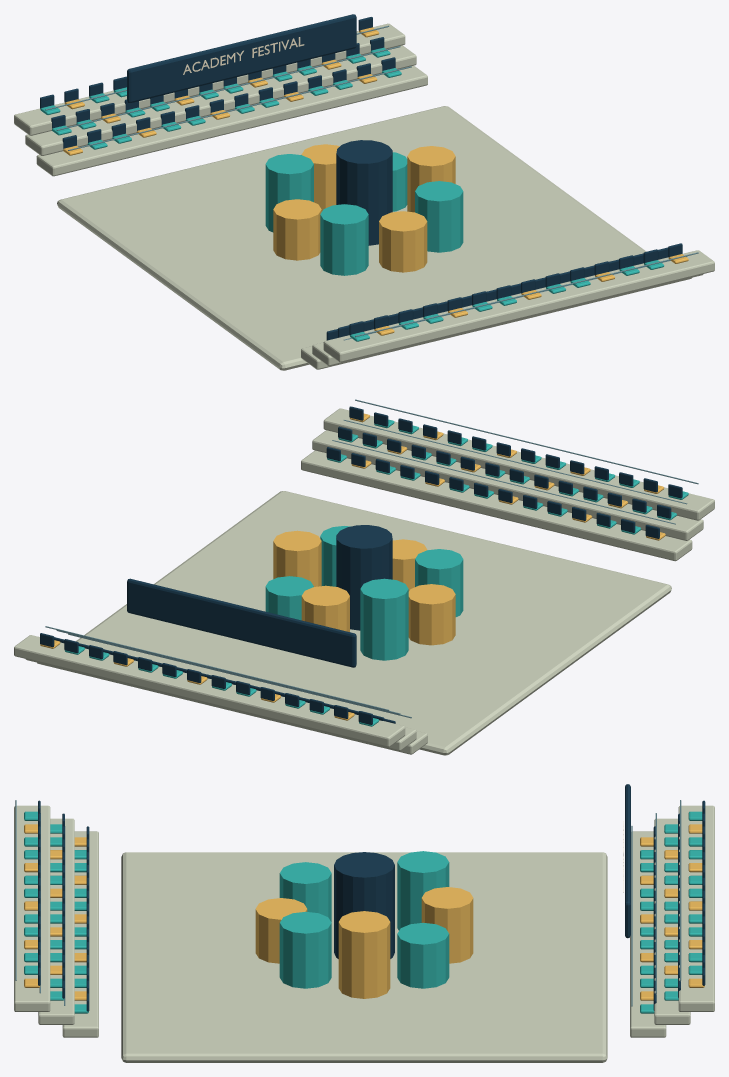
The model's file is festival-target.glb.
3 renders of one model, top to bottom at view 1: azimuth 30°, elevation 25°; view 2: azimuth 150°, elevation 25°; view 3: azimuth 270°, elevation 25°, orthographic. The views are drawn at different scales.
Visible parts, largest first — view 1: Venue, TargetPlatform7, TargetPlatform1, TargetPlatform0, TargetPlatform6, TargetPlatform5, TargetPlatform2, TargetPlatform4, TargetPlatform3; view 2: Venue, TargetPlatform5, TargetPlatform6, TargetPlatform2, TargetPlatform7, TargetPlatform4, TargetPlatform3, TargetPlatform0, TargetPlatform1; view 3: Venue, TargetPlatform2, TargetPlatform1, TargetPlatform3, TargetPlatform5, TargetPlatform4, TargetPlatform7, TargetPlatform0.
Boxes of the visible parts, left/top/right/bottom form: Venue: left=14, top=14, right=714, bottom=370; TargetPlatform7: left=320, top=204, right=368, bottom=275; TargetPlatform1: left=415, top=181, right=463, bottom=252; TargetPlatform0: left=379, top=211, right=427, bottom=272; TargetPlatform6: left=273, top=199, right=321, bottom=260; TargetPlatform5: left=265, top=154, right=313, bottom=232; TargetPlatform2: left=407, top=146, right=455, bottom=212; TargetPlatform4: left=301, top=144, right=339, bottom=211; TargetPlatform3: left=392, top=152, right=407, bottom=211; Venue: left=14, top=399, right=714, bottom=755; TargetPlatform5: left=360, top=578, right=408, bottom=660; TargetPlatform6: left=408, top=584, right=455, bottom=645; TargetPlatform2: left=273, top=530, right=321, bottom=586; TargetPlatform7: left=415, top=549, right=463, bottom=616; TargetPlatform4: left=301, top=585, right=349, bottom=631; TargetPlatform3: left=265, top=576, right=313, bottom=620; TargetPlatform0: left=392, top=539, right=427, bottom=591; TargetPlatform1: left=320, top=526, right=350, bottom=586; Venue: left=14, top=784, right=714, bottom=1062; TargetPlatform2: left=338, top=911, right=390, bottom=998; TargetPlatform1: left=279, top=911, right=331, bottom=988; TargetPlatform3: left=397, top=922, right=449, bottom=988; TargetPlatform5: left=397, top=851, right=449, bottom=930; TargetPlatform4: left=421, top=887, right=473, bottom=963; TargetPlatform7: left=279, top=862, right=331, bottom=921; TargetPlatform0: left=255, top=898, right=307, bottom=963.
Size of the model in its own units: 24 by 6.5 by 34.6.
